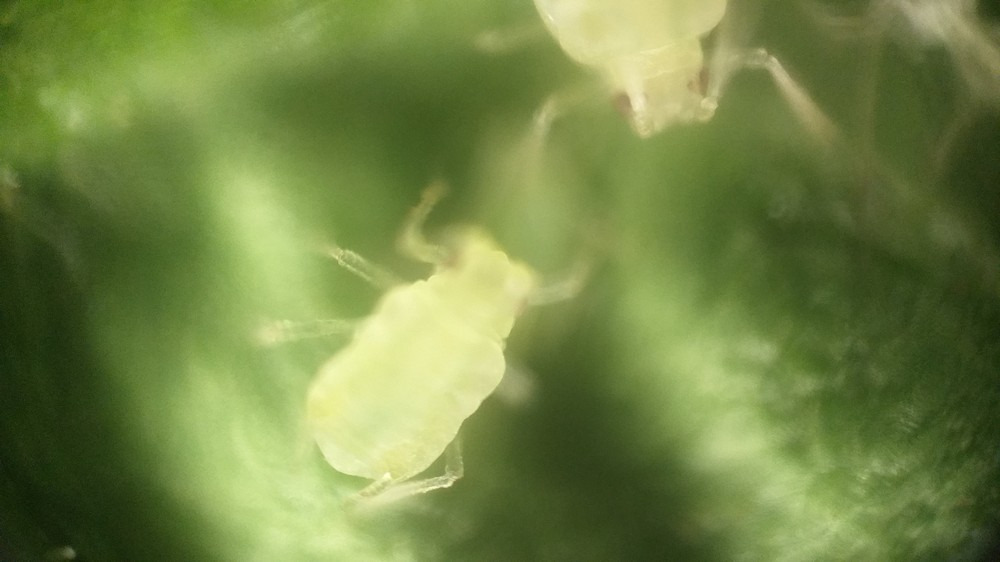Pulgon: (246, 168, 627, 521), (479, 4, 880, 173)
